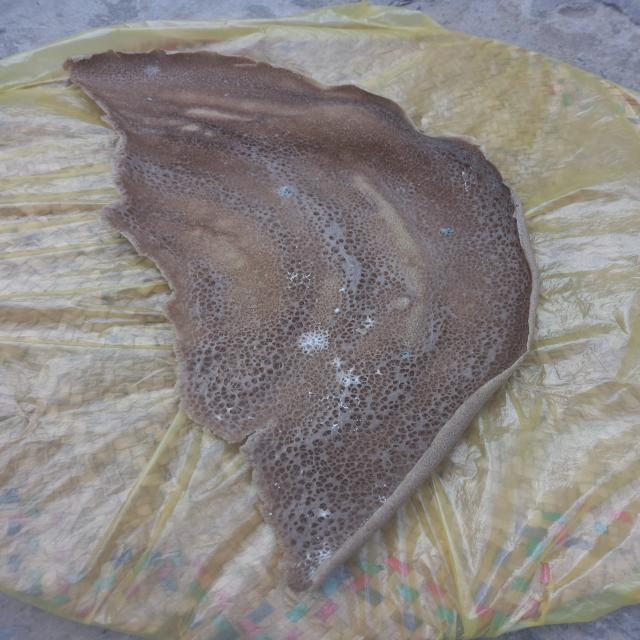injera_mold: (309, 388, 363, 428), (299, 542, 337, 579), (329, 356, 365, 389), (294, 327, 334, 355), (284, 269, 318, 291), (211, 402, 239, 423), (358, 314, 376, 332), (141, 62, 161, 78), (276, 183, 297, 197), (393, 182, 410, 196), (437, 226, 455, 238), (315, 508, 332, 520), (400, 350, 415, 359)
